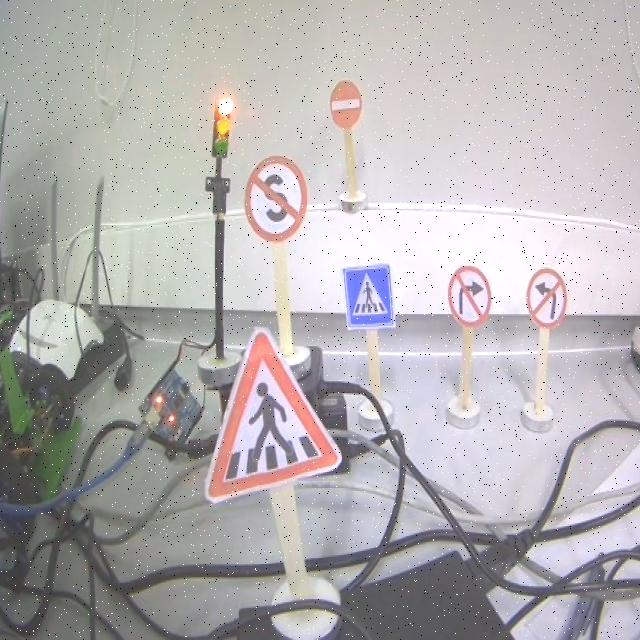Dilarang Belok Kanan: (448, 266, 491, 324)
Dilarang Belok Kiri: (526, 269, 567, 327)
Dilarang Masuk: (328, 80, 362, 130)
Lampu Merah: (208, 100, 232, 164)
Rambu Berhenti: (243, 155, 307, 241)
Rambu Penyebrangan: (205, 328, 340, 500), (343, 264, 394, 329)
